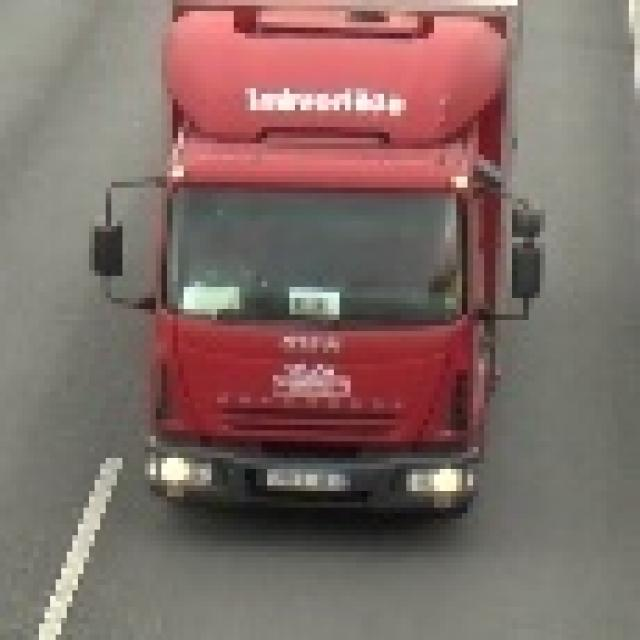truck: (89, 0, 540, 519)
